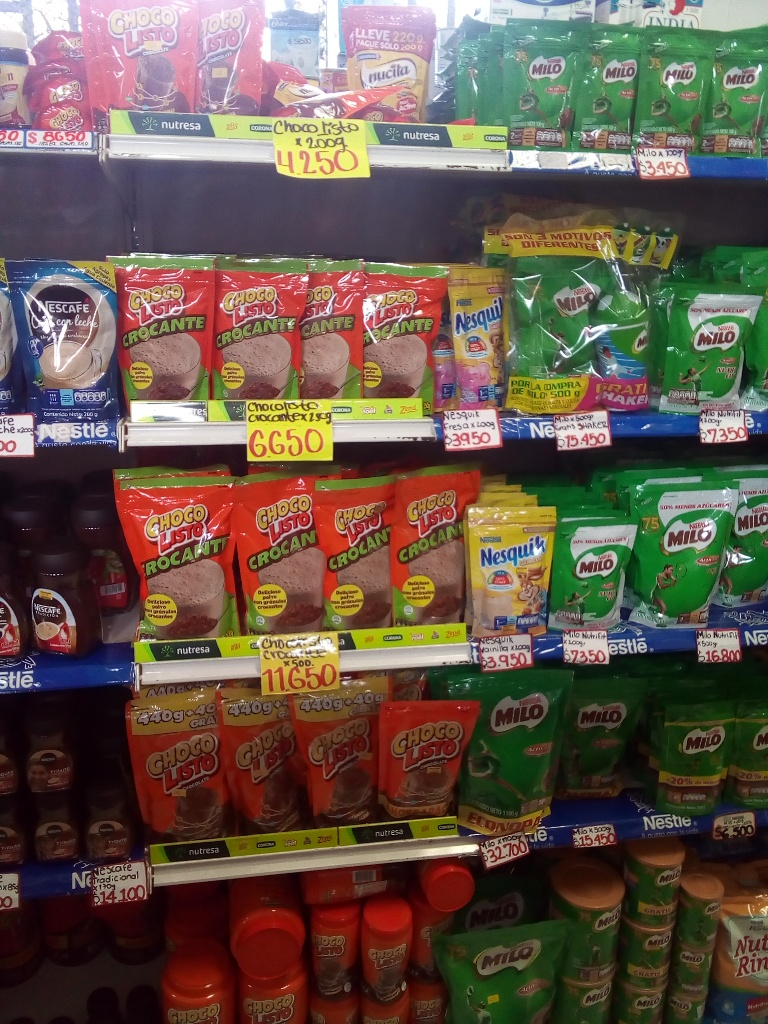COL0170102DYP25000: (105, 249, 214, 404)
COL0170102DYP50000: (389, 458, 481, 636)
COL0170103DYP20000: (385, 702, 476, 825)
COL0170103TRR30000: (313, 903, 359, 1001)
COL0170203DYP10000: (502, 19, 579, 148)
COL0170203DYP25000: (666, 700, 735, 821)
COL0170203DYP50000: (502, 231, 606, 416)
COL0170203LAT20000: (683, 873, 724, 949)
COL0170205DYP20000: (652, 283, 752, 416)
COL0170205DYP50000: (627, 486, 740, 625)
COL0170305DYP20000: (447, 263, 511, 406)
COL0170306DYP20000: (464, 500, 553, 646)
